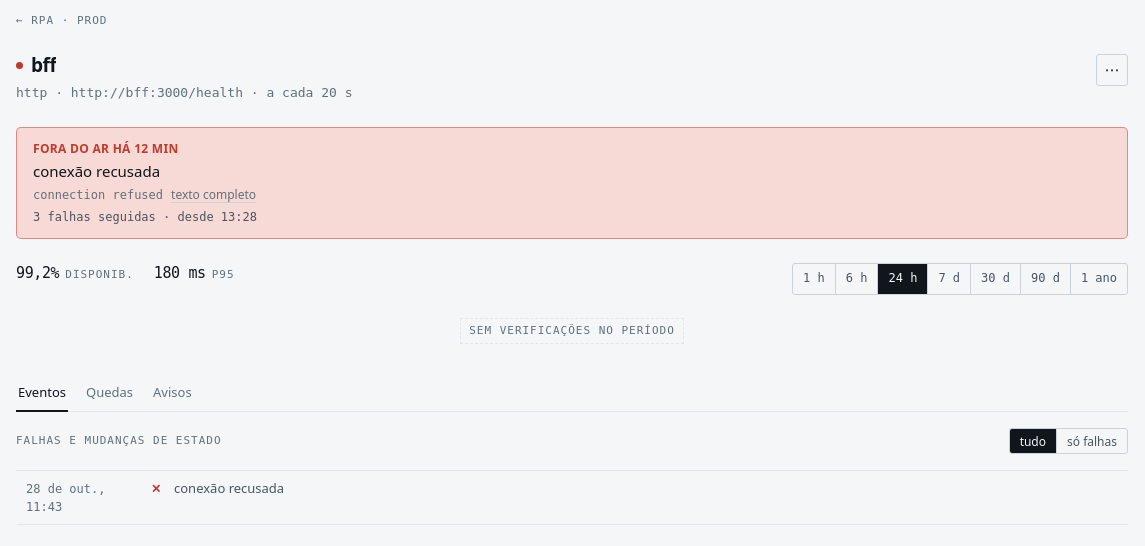
Test: MonitorDetail: falhas repetidas › mostra o texto técnico de uma falha solta ao abrir a linha
Click the button "conexão recusada" at [190, 487], box [174, 479, 1124, 499]
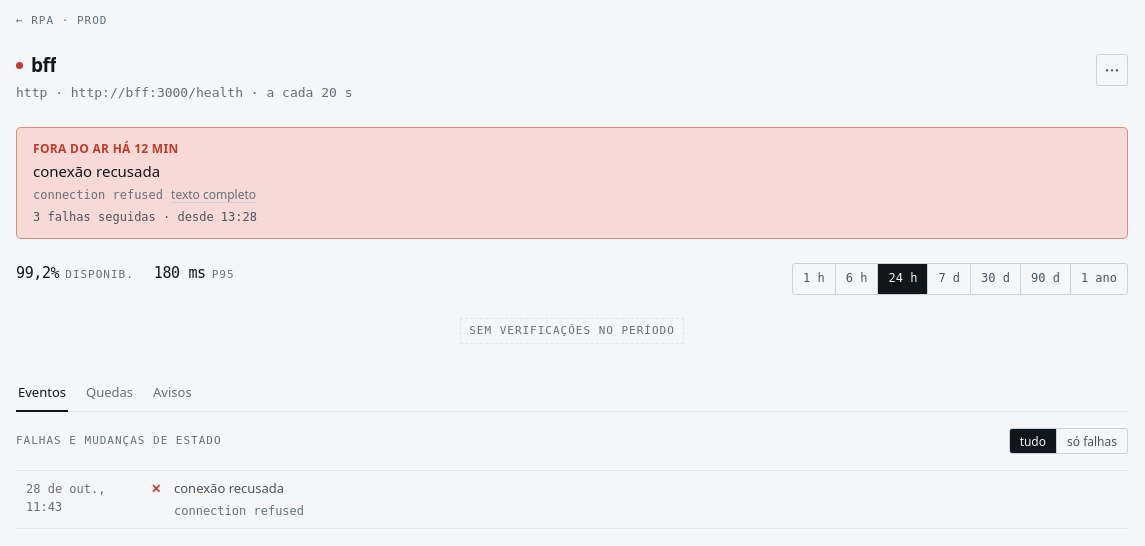
Expected: the text "connection refused" below "28 de out., 11:43" is shown, [174, 504, 304, 518]
